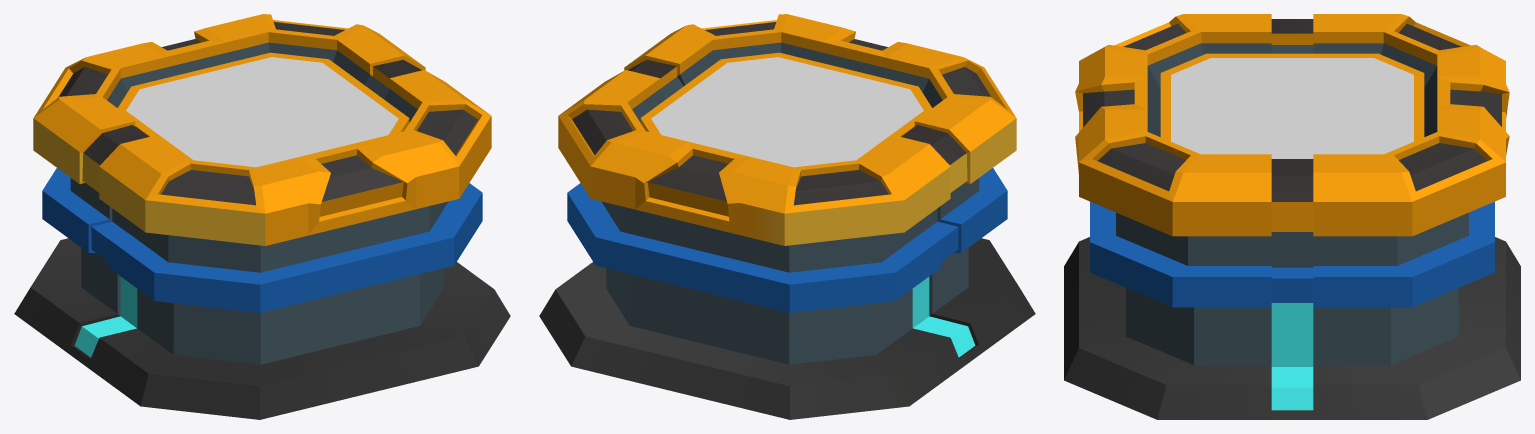
The model's file is Info center.fbx.
3 renders of one model, left to right at view 1: azimuth 30°, elevation 25°; view 2: azimuth 150°, elevation 25°; view 3: azimuth 270°, elevation 25°, orthographic. The views are drawn at different scales.
Visible parts, largest first — view 1: Cube.112; view 2: Cube.112; view 3: Cube.112.
Boxes of the visible parts, bbox=[...] form: Cube.112: bbox=[14, 14, 510, 419]; Cube.112: bbox=[539, 14, 1035, 419]; Cube.112: bbox=[1064, 14, 1520, 419].
Size of the model in its own units: 1.63 by 0.9068 by 1.63.
